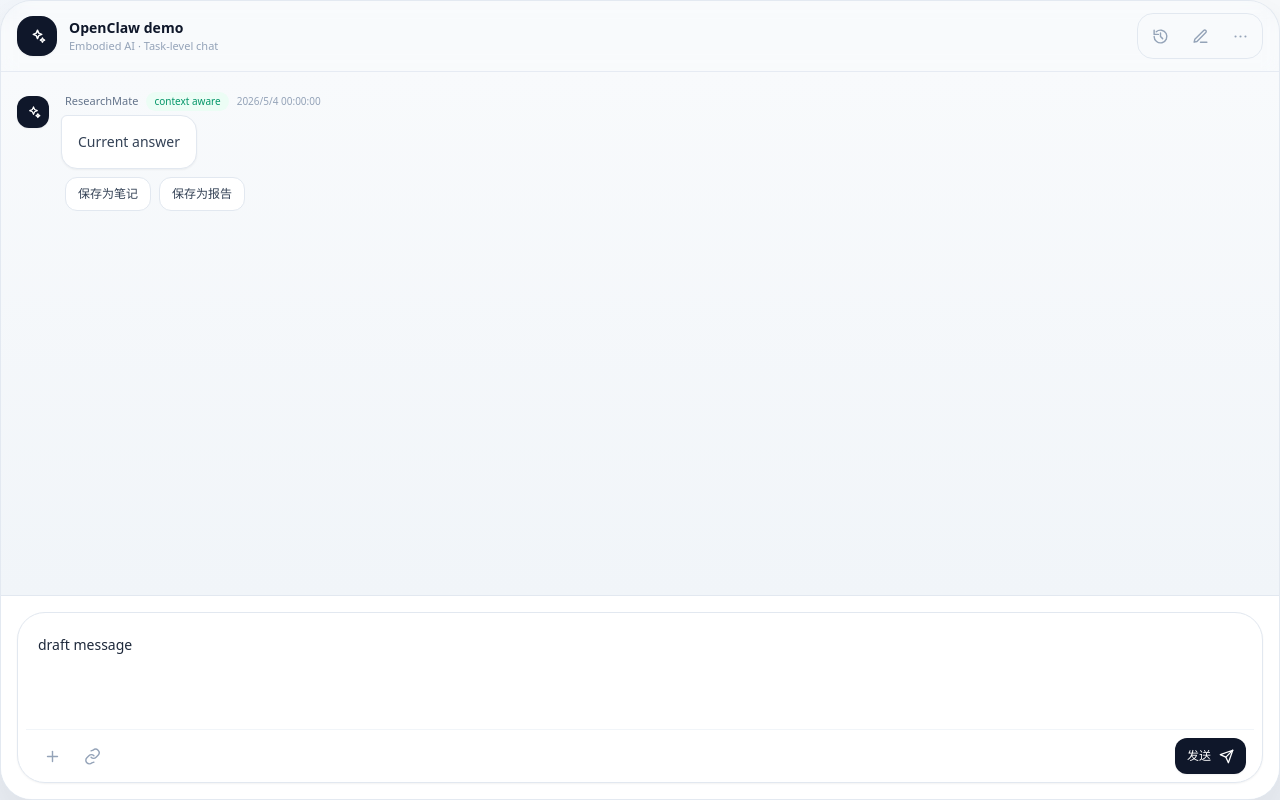
Test case: ContextChatPanel › shows history popover, menu actions, and node picker
The width and height of the screenshot is (1280, 800).
Click the button titled "历史对话" at coordinates (1160, 36), box x1=1142 y1=18 x2=1178 y2=54
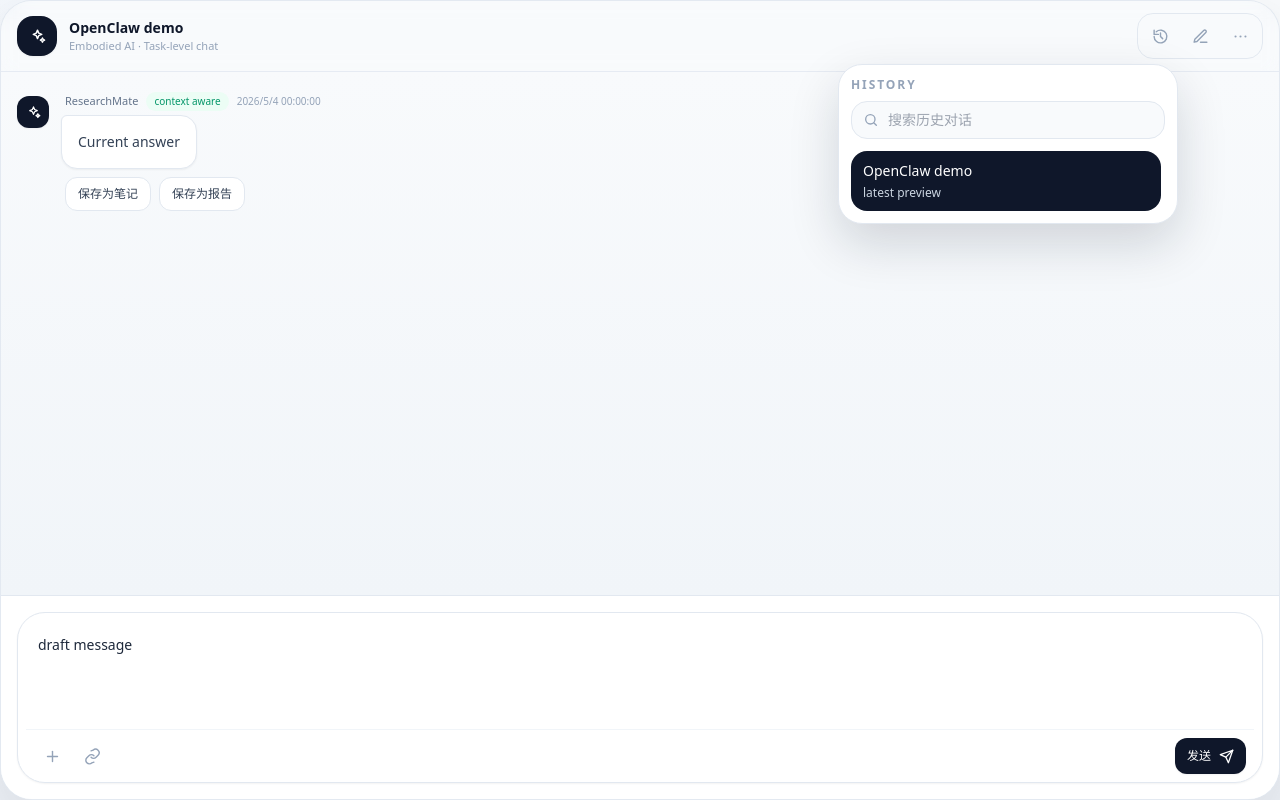
Now the field with placeholder "搜索历史对话" is shown, box x1=851 y1=101 x2=1165 y2=139
Click the button titled "更多操作" at coordinates (1240, 36), box x1=1222 y1=18 x2=1258 y2=54
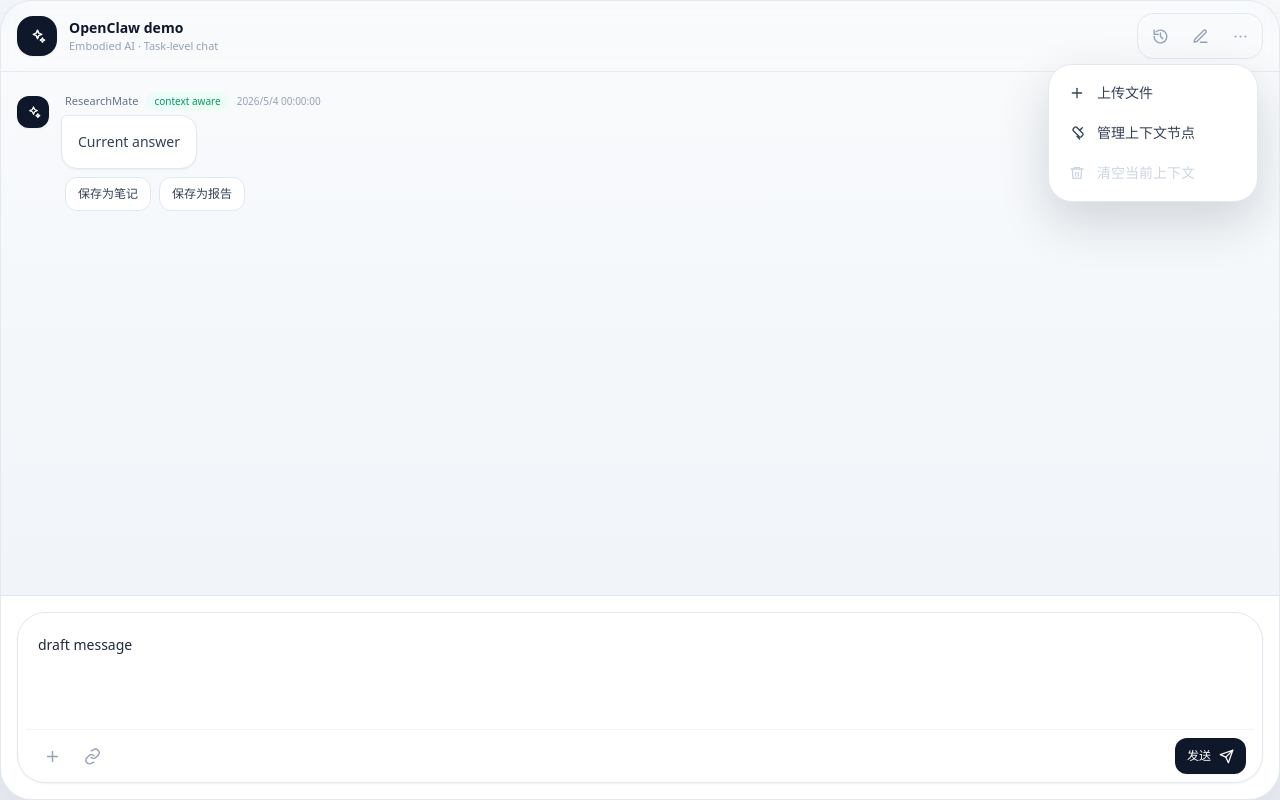
Now the button "上传文件" is shown, box x1=1057 y1=73 x2=1249 y2=113
Now the button "管理上下文节点" is shown, box x1=1057 y1=113 x2=1249 y2=153
Click the button titled "关联节点上下文" at coordinates (92, 756), box x1=74 y1=738 x2=110 y2=774
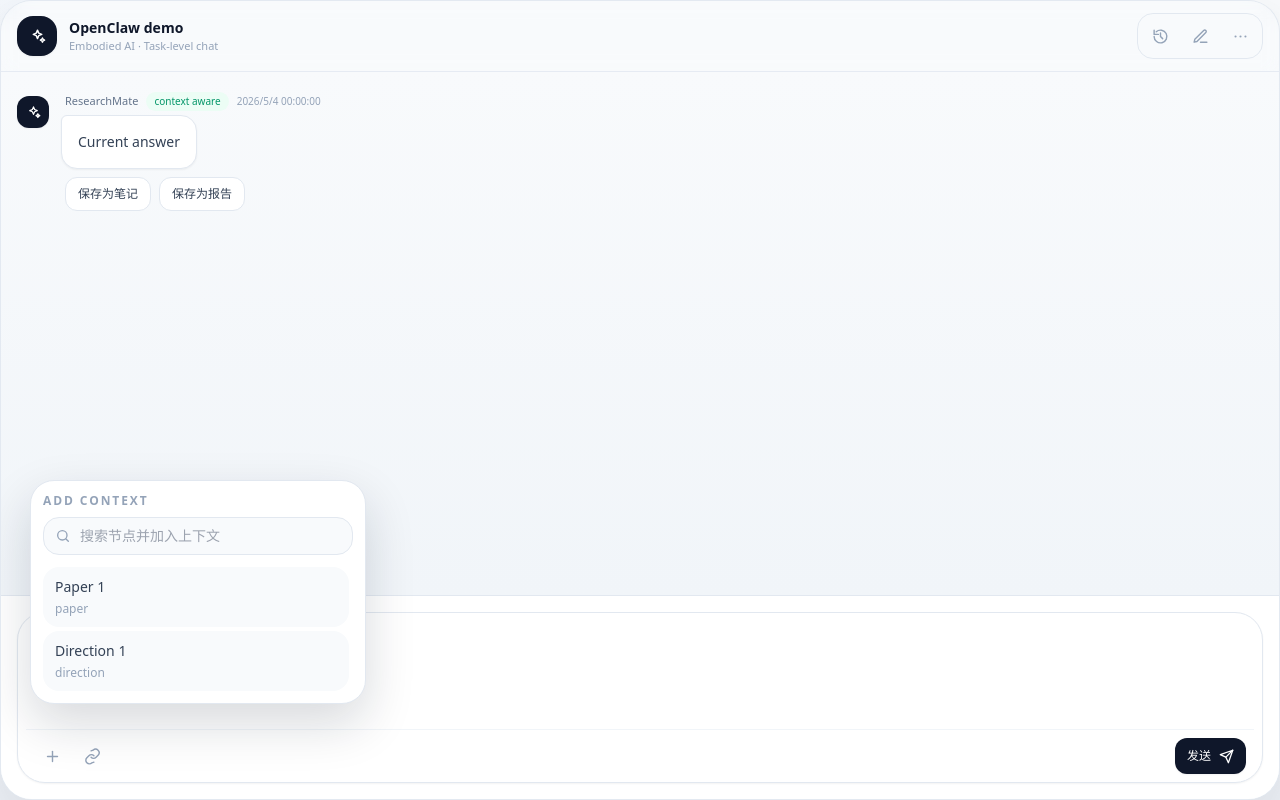
Now the field with placeholder "搜索节点并加入上下文" is shown, box x1=43 y1=517 x2=353 y2=555
Now the text "Paper 1" is shown, box x1=55 y1=577 x2=105 y2=596
